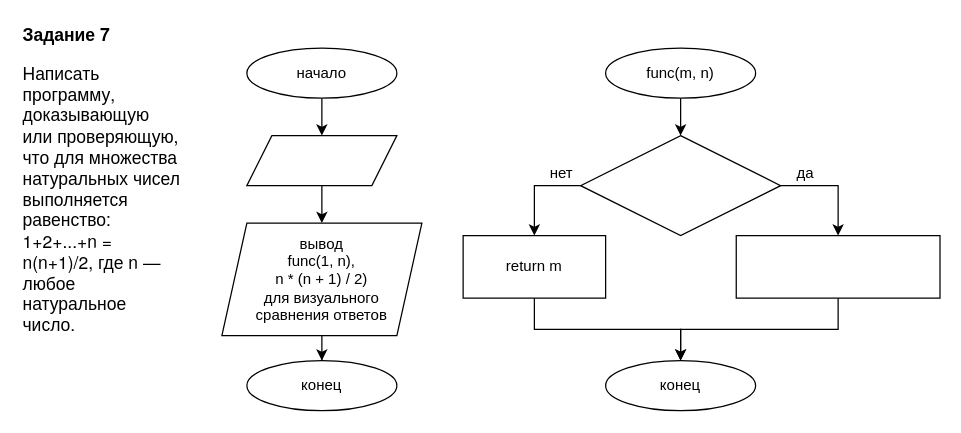
This 961x433 diagram has some shape labels left out. The centre of each missing label's shape, as x and y in pixels:
"n != m" goes at pixel 680 185.
"return m + func(m + 1, n)" goes at pixel 837 266.
"ввод n" goes at pixel 321 160.
